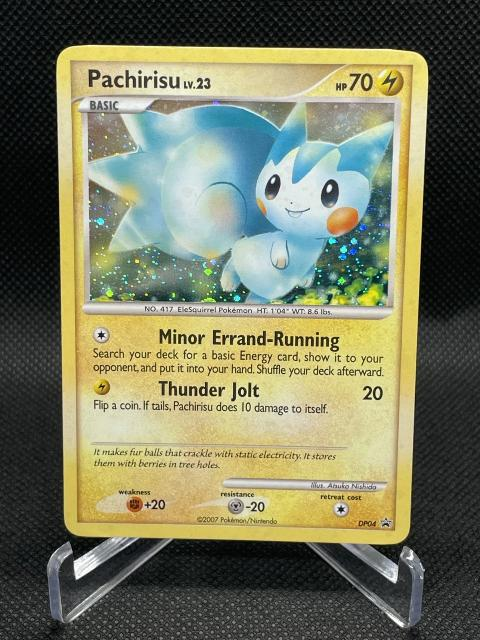Card: (53, 43, 434, 547)
Name: (84, 65, 183, 94)
